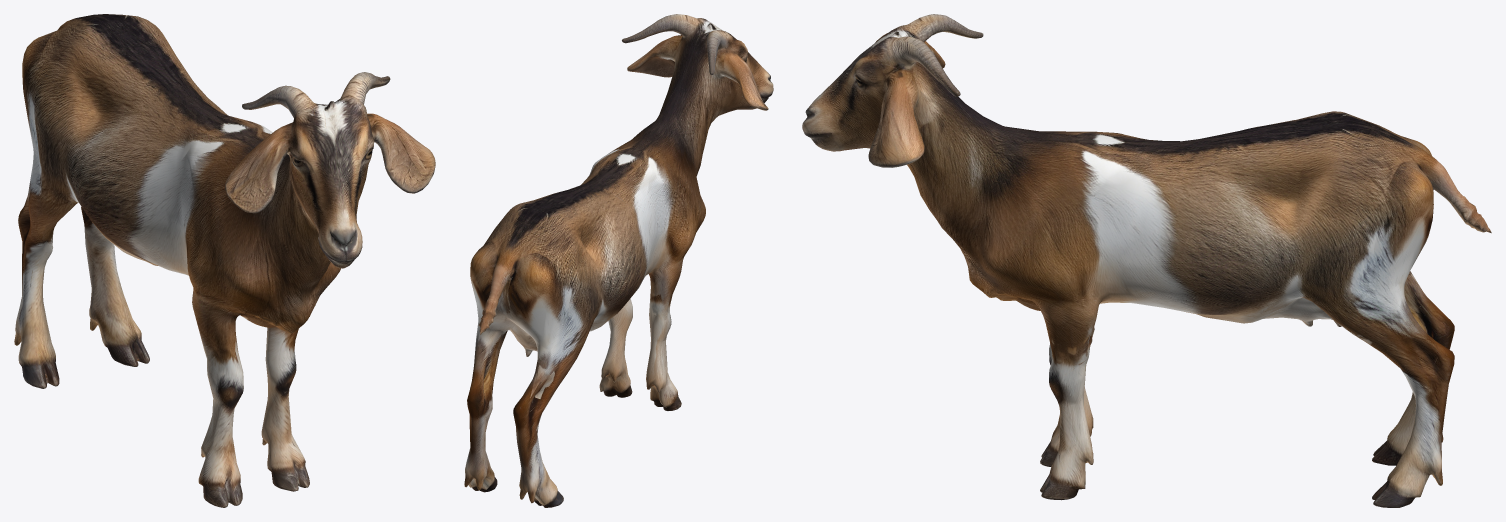
File: goat.glb
3 renders of one model, left to right at view 1: azimuth 30°, elevation 25°; view 2: azimuth 150°, elevation 25°; view 3: azimuth 270°, elevation 25°, orthographic. The views are drawn at different scales.
Visible parts, largest first — view 1: Object_4; view 2: Object_4; view 3: Object_4.
Part boxes in pixels (box(x1,y1,x2,y2)): Object_4: box(14, 14, 435, 507); Object_4: box(464, 14, 773, 507); Object_4: box(802, 14, 1491, 507).
Size of the model in its own units: 0.6088 by 1.39 by 1.91.
1 material, 1 textured.
